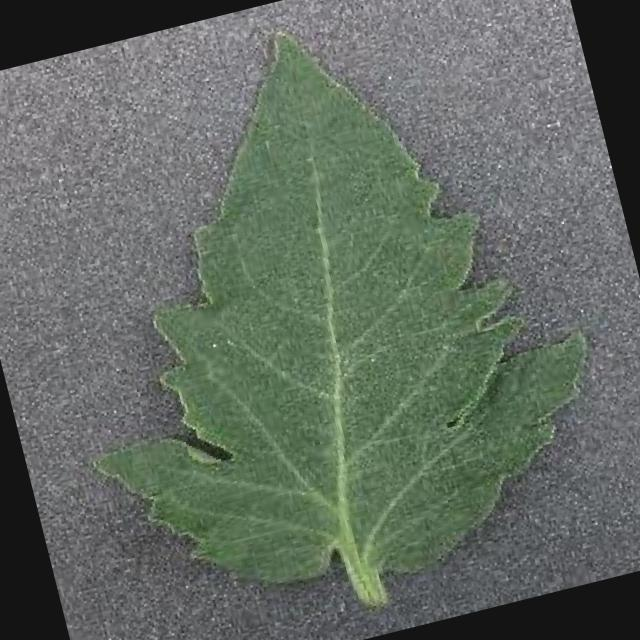healthy: (96, 36, 584, 604)
